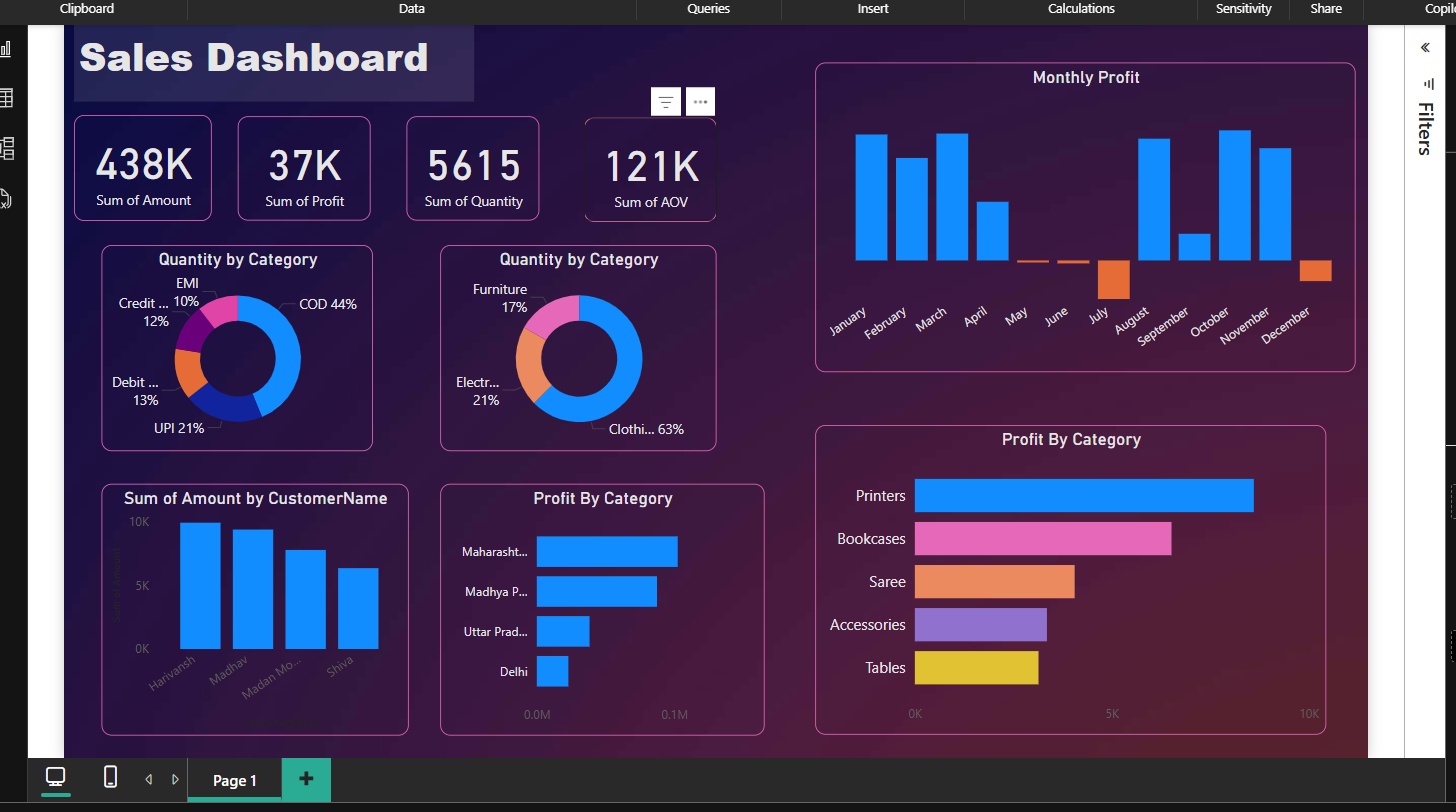

What the dashboard file says about the page in this screenshot:
{"tool":"powerbi","page":{"name":"Page 1","canvas":[1280,720],"ordinal":0},"visuals":[{"type":"textbox","box":[9.6,0,392.5,75.5],"z":0},{"type":"barChart","title":"Profit By Category","fields":{"Category":["Details.Sub-Category"],"Y":["Details.Profit"]},"box":[736.9,393.2,501.7,303.9],"z":1000},{"type":"columnChart","title":"Monthly Profit","fields":{"Y":["Details.Profit"],"Category":["Orders.Order Date.Variation.Date Hierarchy.Month"]},"box":[736.9,37.4,530.7,303.9],"z":2000},{"type":"donutChart","title":"Quantity by Category","fields":{"Category":["Details.Category"],"Y":["Details.Quantity"]},"box":[369.3,216,271.2,202.5],"z":3000},{"type":"donutChart","title":"Quantity by Category","fields":{"Category":["Details.PaymentMode"],"Y":["Details.Quantity"]},"box":[37.4,215.9,266.5,202.6],"z":4000},{"type":"card","fields":{"Values":["Details.Amount"]},"box":[9.6,88,135.1,103.7],"z":5000},{"type":"card","fields":{"Values":["Details.Profit"]},"box":[170.1,89.2,130.3,102.5],"z":6000},{"type":"card","fields":{"Values":["Details.Quantity"]},"box":[336.5,89.2,130.3,102.5],"z":7000},{"type":"card","fields":{"Values":["Details.AOV"]},"box":[510.2,90.5,130.3,102.5],"z":8000},{"type":"barChart","title":"Profit By Category","fields":{"Category":["Orders.State"],"Y":["Details.Amount"]},"box":[369,449.8,318.4,247.2],"z":9000},{"type":"columnChart","fields":{"Category":["Orders.CustomerName"],"Y":["Details.Amount"]},"box":[37.4,449.8,301.5,247.2],"z":10000}]}

Visuals, with their boxes on the page's 1280x720 design canvas (x1, y1, x2, y2). These are canvas units, not pixel positions in the 1456x812 screenshot, which may show the page scaled, cropped or inside an application window:
textbox: bbox=[10, 0, 402, 76]
"Profit By Category" barChart: bbox=[737, 393, 1239, 697]
"Monthly Profit" columnChart: bbox=[737, 37, 1268, 341]
"Quantity by Category" donutChart: bbox=[369, 216, 640, 418]
"Quantity by Category" donutChart: bbox=[37, 216, 304, 418]
card - Details.Amount: bbox=[10, 88, 145, 192]
card - Details.Profit: bbox=[170, 89, 300, 192]
card - Details.Quantity: bbox=[336, 89, 467, 192]
card - Details.AOV: bbox=[510, 90, 640, 193]
"Profit By Category" barChart: bbox=[369, 450, 687, 697]
columnChart - Orders.CustomerName x Details.Amount: bbox=[37, 450, 339, 697]
